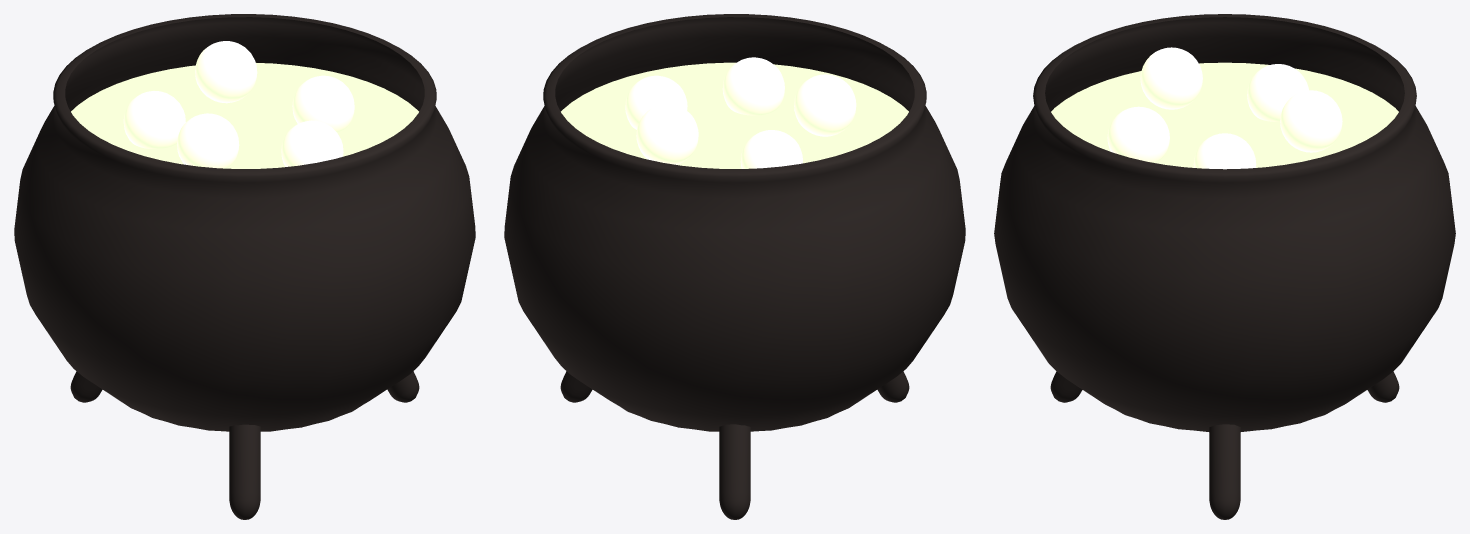
File: deco_caldero.glb
3 views of the same model, side by side, from view 1: azimuth 30°, elevation 25°; view 2: azimuth 150°, elevation 25°; view 3: azimuth 270°, elevation 25° (orthographic).
Parts seen in each view (by area): view 1: caldero.001, poción.001, burbuja 1.001, pata caldero 2.001, burbuja 2.001, burbuja 3.001, burbuja 0.001, burbuja 4.001, pata caldero 1.001, pata caldero 0.001; view 2: caldero.001, poción.001, burbuja 3.001, burbuja 1.001, burbuja 4.001, pata caldero 1.001, burbuja 2.001, burbuja 0.001, pata caldero 2.001, pata caldero 0.001; view 3: caldero.001, poción.001, burbuja 1.001, burbuja 3.001, pata caldero 0.001, burbuja 4.001, burbuja 2.001, burbuja 0.001, pata caldero 1.001, pata caldero 2.001.
Boxes of the visible parts, bbox=[...] form: caldero.001: bbox=[14, 14, 475, 431]; poción.001: bbox=[71, 63, 418, 168]; burbuja 1.001: bbox=[195, 41, 257, 103]; pata caldero 2.001: bbox=[229, 424, 260, 519]; burbuja 2.001: bbox=[123, 91, 185, 148]; burbuja 3.001: bbox=[177, 113, 239, 168]; burbuja 0.001: bbox=[292, 75, 354, 131]; burbuja 4.001: bbox=[281, 120, 343, 166]; pata caldero 1.001: bbox=[70, 371, 102, 402]; pata caldero 0.001: bbox=[387, 371, 419, 402]; caldero.001: bbox=[504, 14, 965, 431]; poción.001: bbox=[561, 62, 908, 168]; burbuja 3.001: bbox=[794, 74, 856, 136]; burbuja 1.001: bbox=[636, 104, 698, 164]; burbuja 4.001: bbox=[722, 57, 784, 115]; pata caldero 1.001: bbox=[719, 424, 750, 519]; burbuja 2.001: bbox=[740, 130, 802, 168]; burbuja 0.001: bbox=[625, 75, 687, 129]; pata caldero 2.001: bbox=[877, 371, 909, 402]; pata caldero 0.001: bbox=[560, 371, 592, 402]; caldero.001: bbox=[994, 14, 1455, 431]; poción.001: bbox=[1051, 62, 1398, 167]; burbuja 1.001: bbox=[1280, 90, 1342, 152]; burbuja 3.001: bbox=[1140, 47, 1202, 109]; pata caldero 0.001: bbox=[1209, 424, 1240, 519]; burbuja 4.001: bbox=[1107, 106, 1169, 162]; burbuja 2.001: bbox=[1247, 64, 1308, 121]; burbuja 0.001: bbox=[1193, 133, 1256, 169]; pata caldero 1.001: bbox=[1367, 371, 1399, 402]; pata caldero 2.001: bbox=[1050, 371, 1082, 402].
Size of the model in its own units: 0.2545 by 0.2186 by 0.2545.
